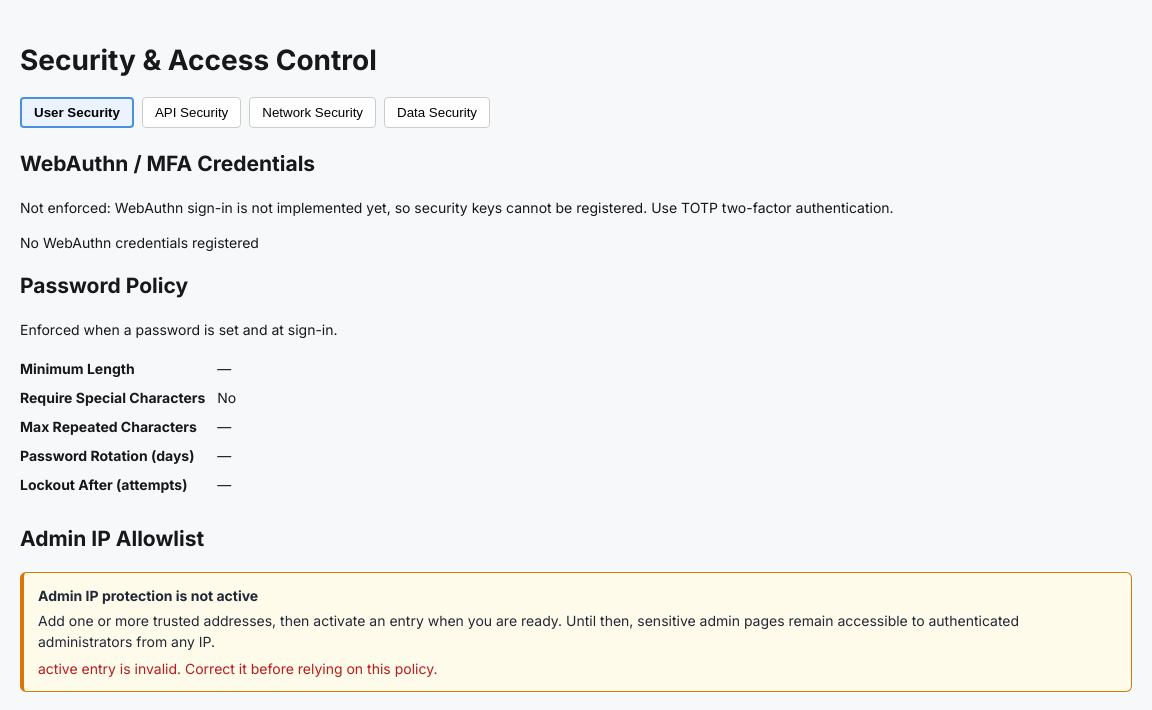
Test: SecurityAccessControlPage (§17) › shows a DDoS rule as active from its status
The image size is (1152, 710).
Click the button "Network Security".
click(313, 112)  # box [249,97,376,128]
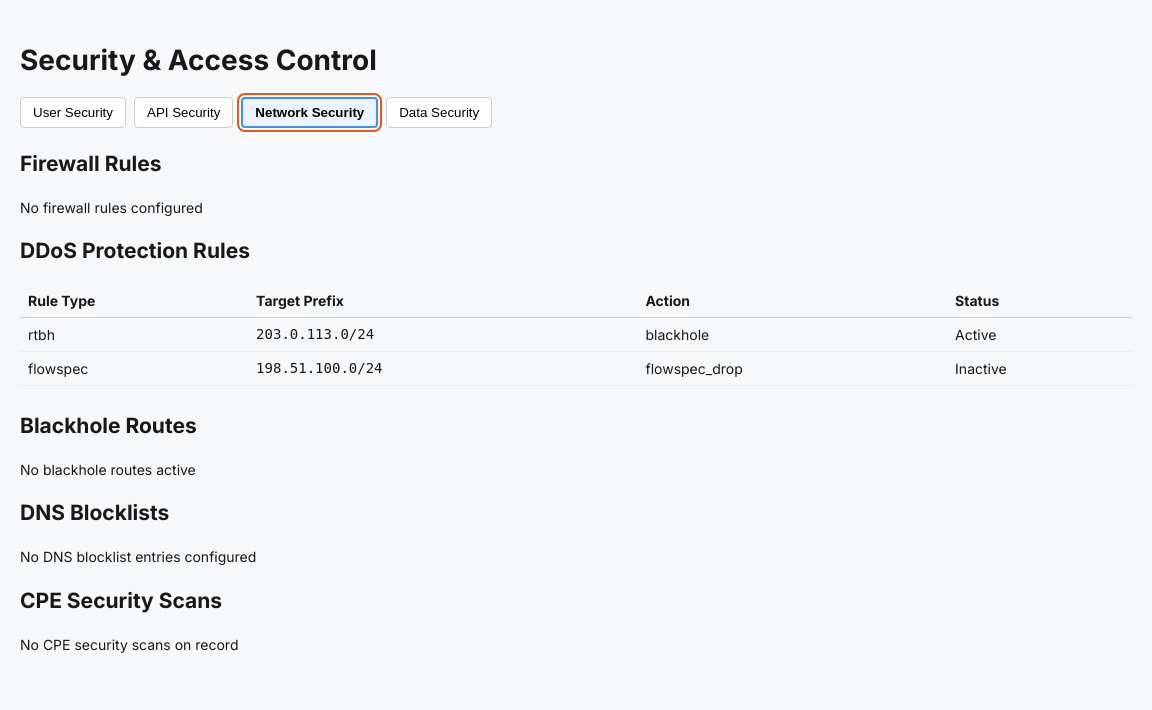
Expected: the text "203.0.113.0/24" does not show "Inactive"
Expected: the text "203.0.113.0/24" shows "Active", [955,326,996,343]
Expected: the text "198.51.100.0/24" shows "Inactive", [955,360,1007,377]
